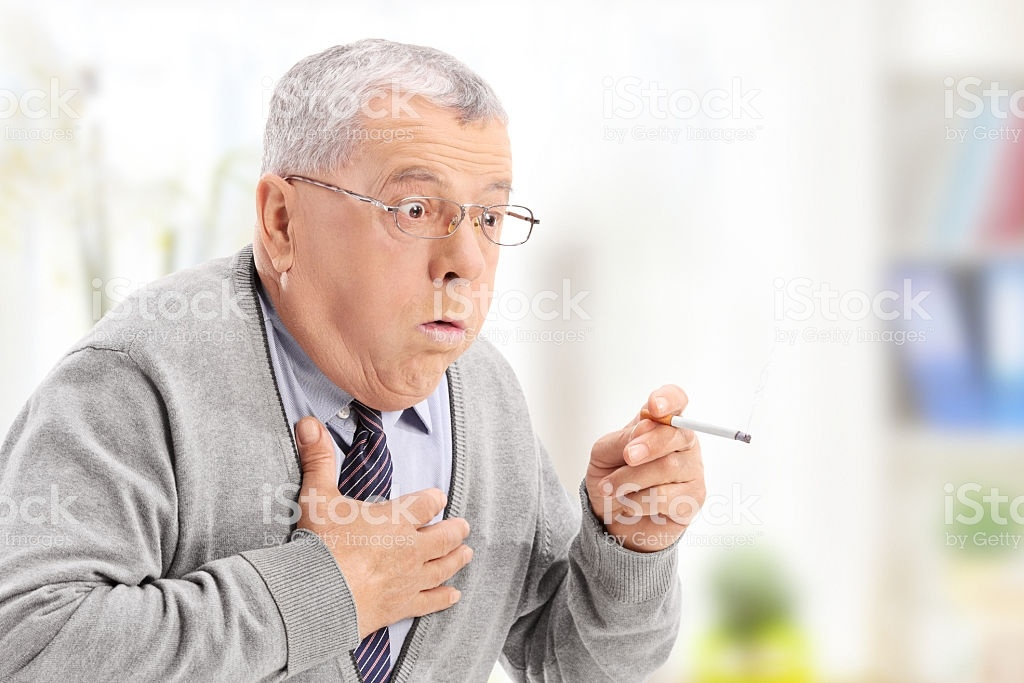sigaretta: (637, 401, 751, 446)
